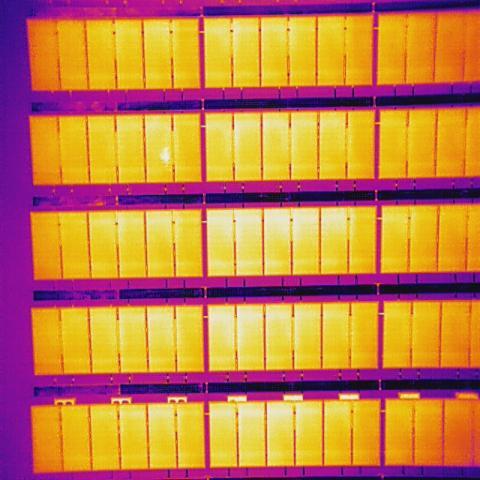fault: (160, 146, 170, 165)
